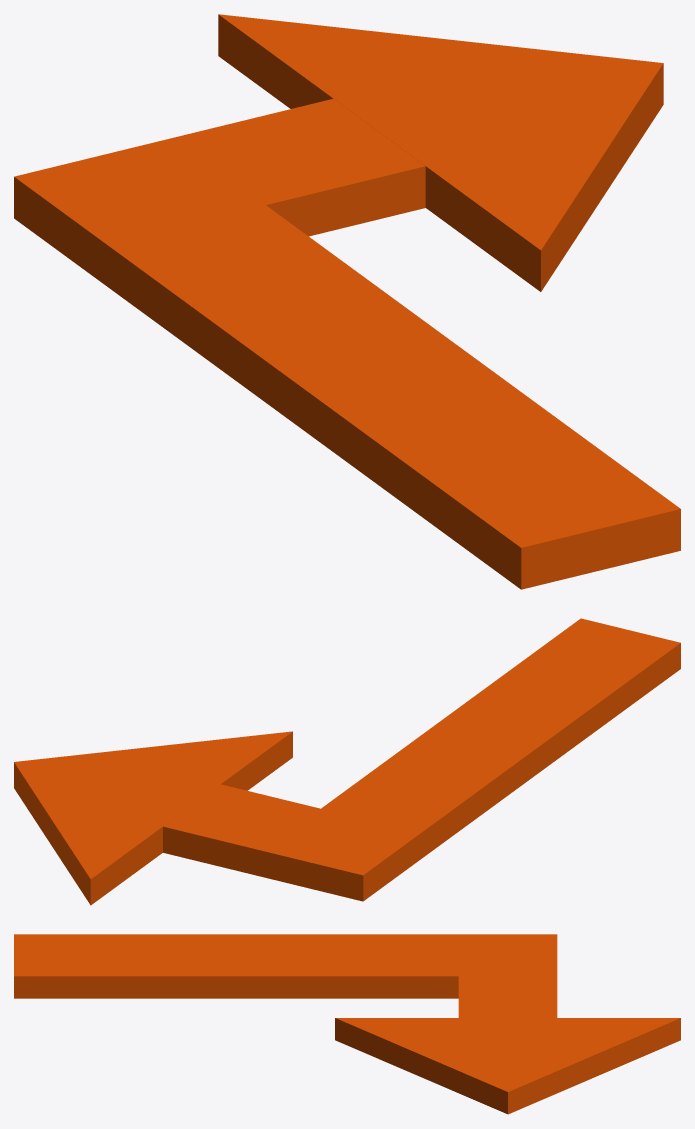
The model's file is arrow_right.glb.
3 views of the same model, one above another, from view 1: azimuth 30°, elevation 25°; view 2: azimuth 150°, elevation 25°; view 3: azimuth 270°, elevation 25° (orthographic). The views are drawn at different scales.
Visible parts, largest first — view 1: arrow_base_right; view 2: arrow_base_right; view 3: arrow_base_right.
Boxes of the visible parts, left/top/right/bottom form: arrow_base_right: left=14, top=14, right=680, bottom=589; arrow_base_right: left=14, top=618, right=680, bottom=905; arrow_base_right: left=14, top=934, right=680, bottom=1114.
Bounding box in the file's own units: 0.1511 × 0.01 × 0.27.
